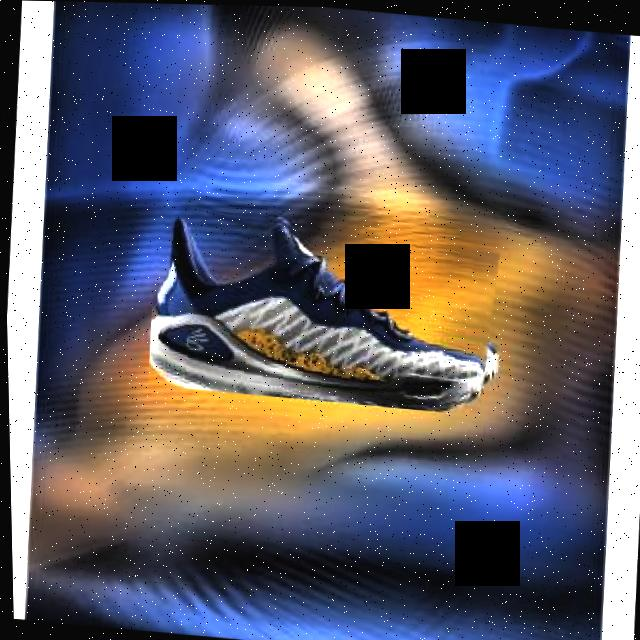shoe: (142, 202, 502, 415)
